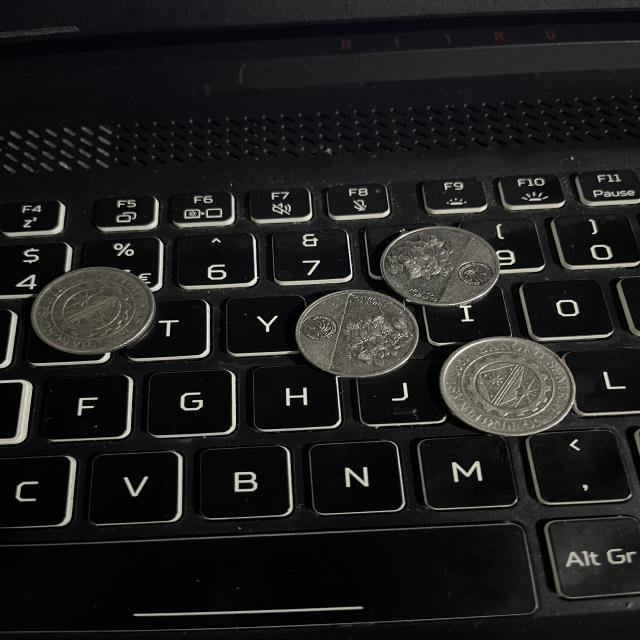1_New_Back: (330, 303, 423, 366), (386, 230, 462, 290)
1_Old_Back: (444, 339, 575, 431), (30, 269, 157, 358)
